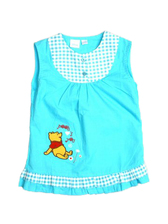clothoes: (20, 32, 154, 192)
